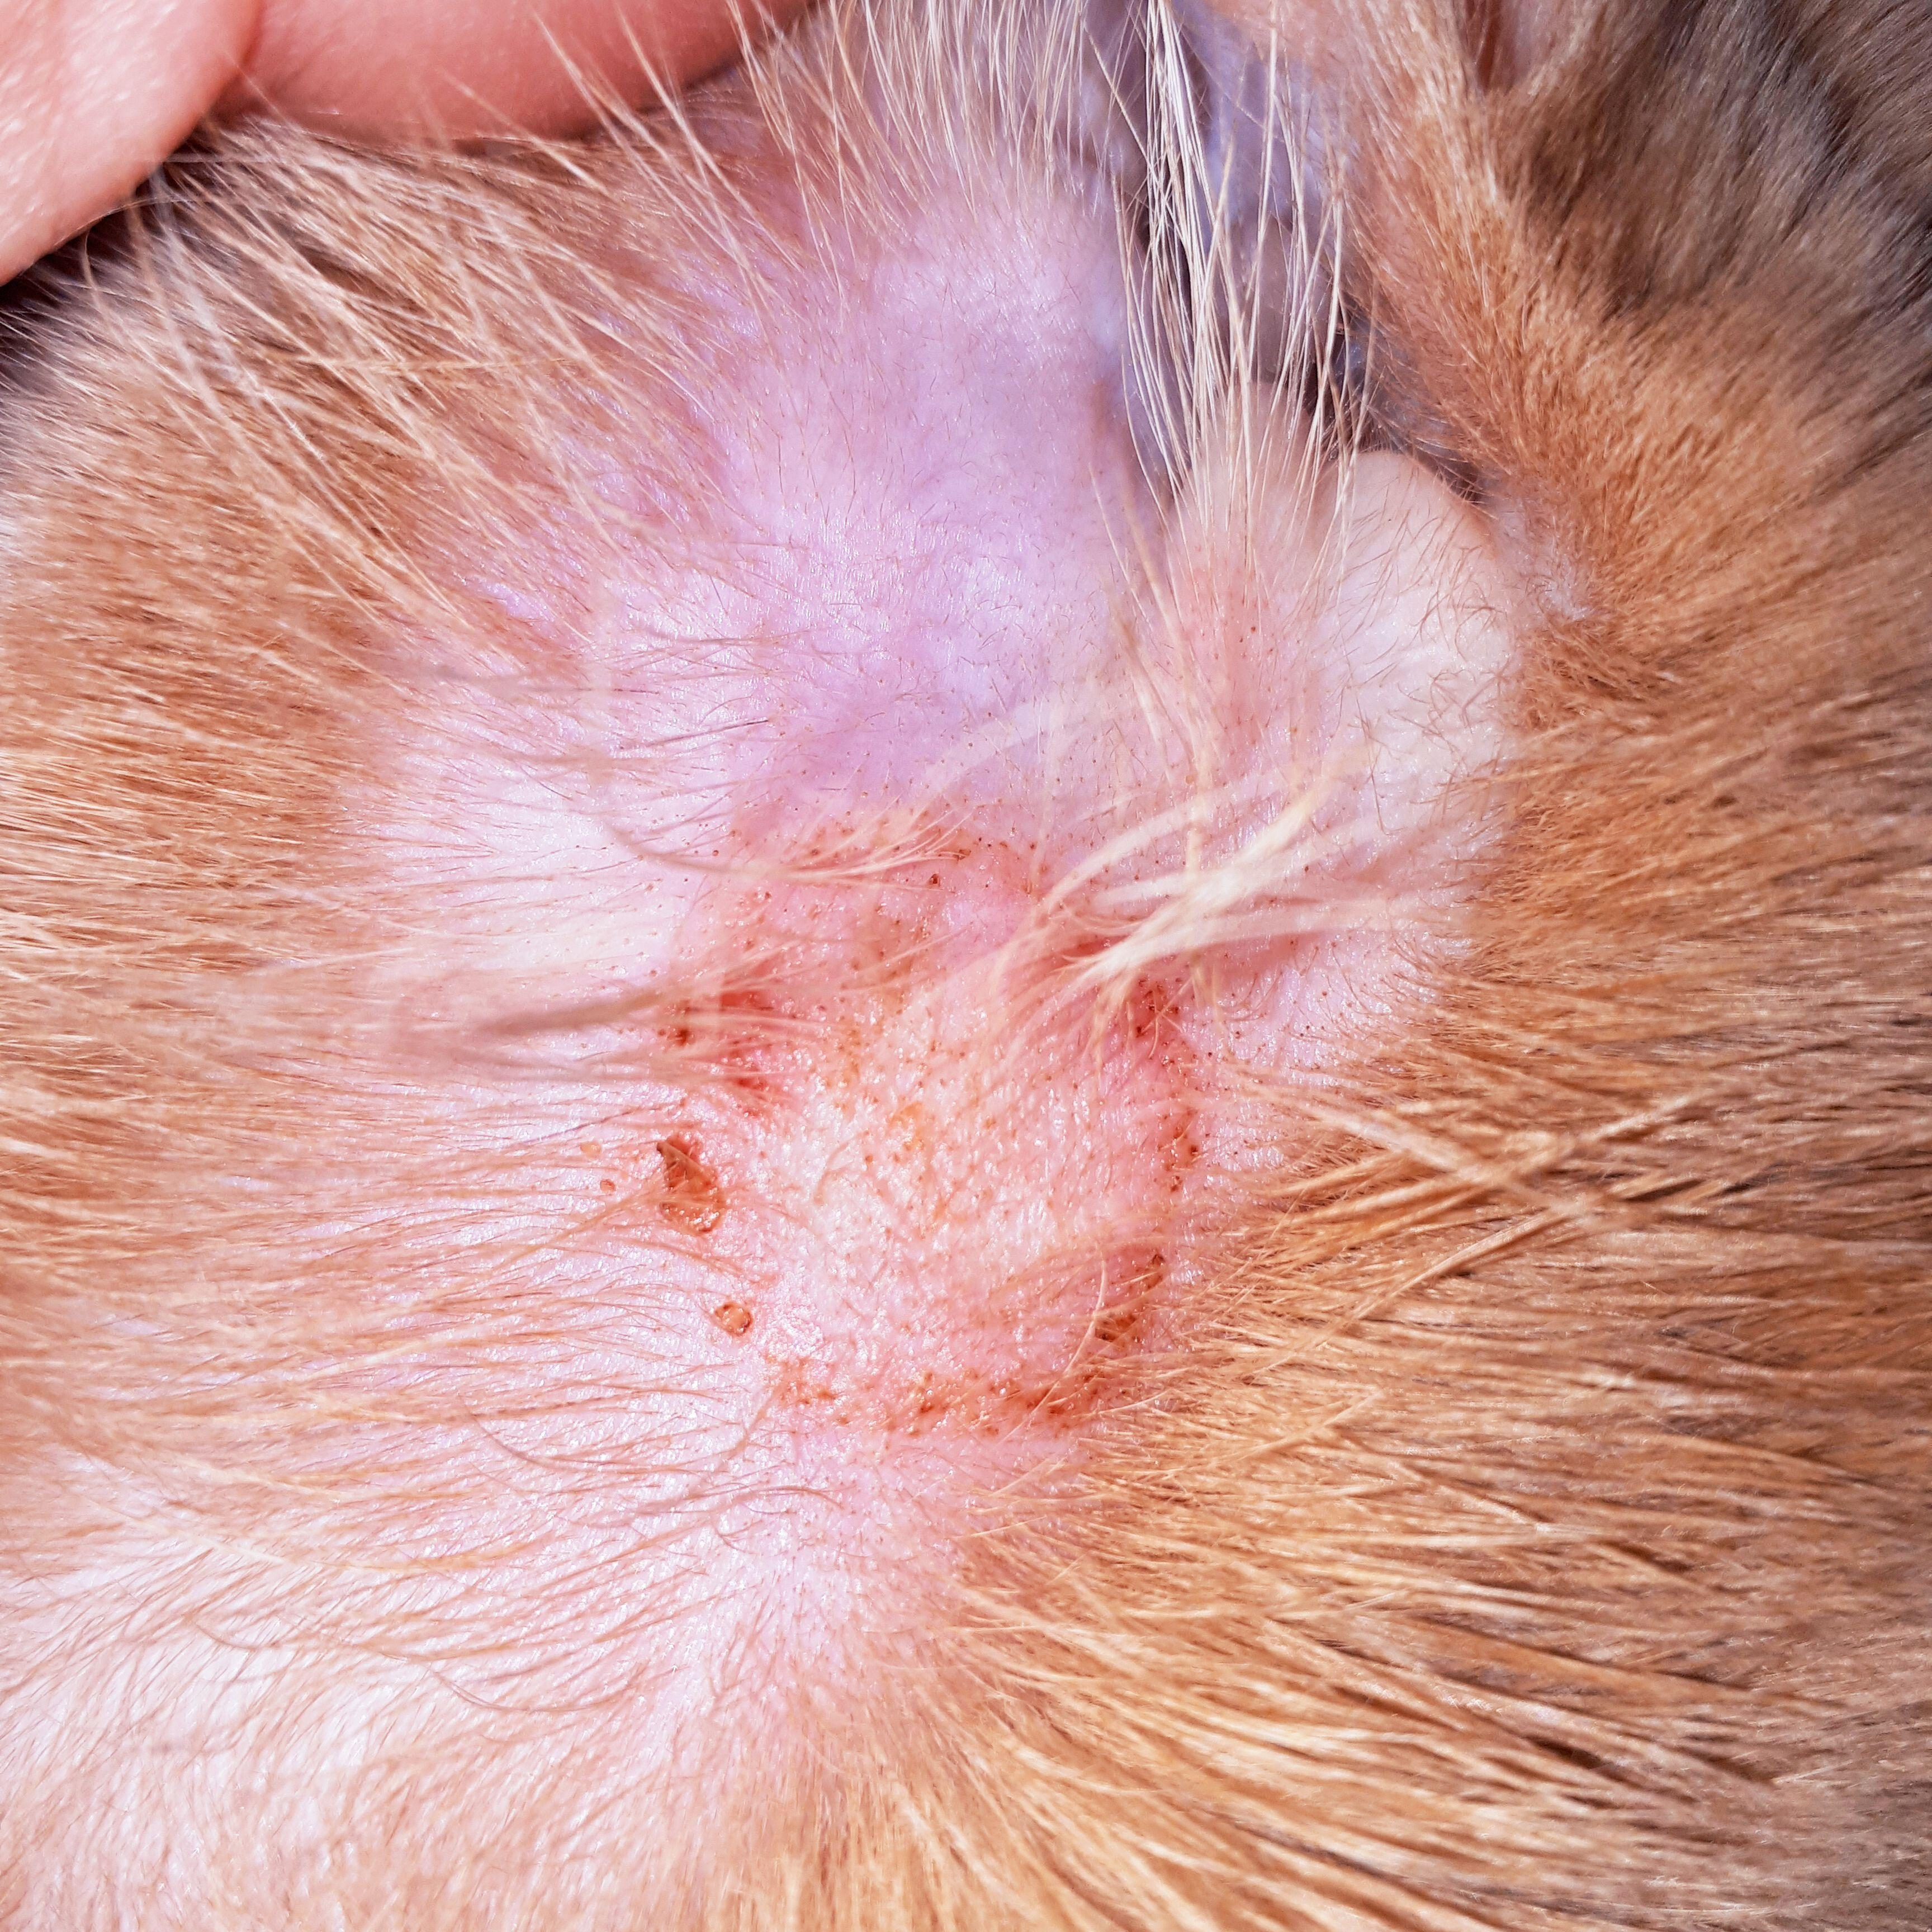ringworm: (674, 786, 1201, 1451)
